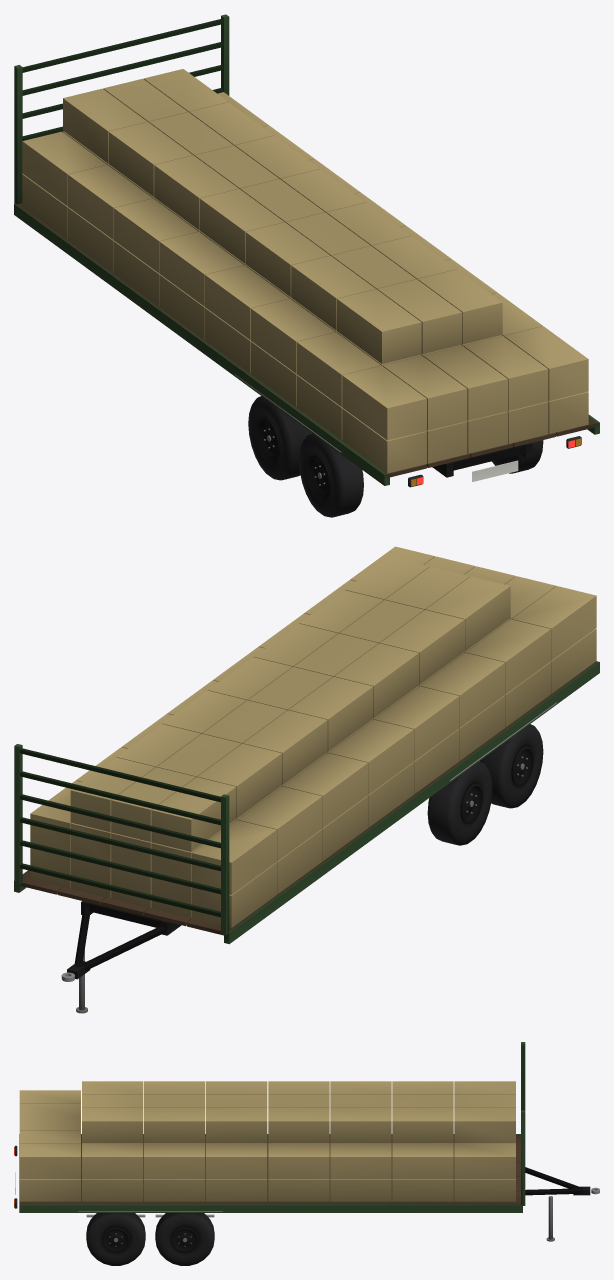
The model's file is hay_trailer_a.glb.
3 renders of one model, top to bottom at view 1: azimuth 30°, elevation 25°; view 2: azimuth 150°, elevation 25°; view 3: azimuth 270°, elevation 25°, orthographic. The views are drawn at different scales.
Parts seen in each view (by area): view 1: hay_trailer_a_body, wheel_rl, wheel_fl; view 2: hay_trailer_a_body, wheel_fl, wheel_rl; view 3: hay_trailer_a_body, wheel_fr, wheel_rr.
Part boxes in pixels (box(x1,y1,x2,y2)): hay_trailer_a_body: box(14, 14, 599, 487); wheel_rl: box(299, 433, 363, 517); wheel_fl: box(248, 396, 311, 480); hay_trailer_a_body: box(14, 546, 599, 1013); wheel_fl: box(427, 761, 492, 845); wheel_rl: box(480, 724, 543, 808); hay_trailer_a_body: box(14, 1042, 599, 1241); wheel_fr: box(155, 1213, 214, 1265); wheel_rr: box(86, 1213, 145, 1265).
Size of what is drawn, in the model's own units: 2.46 by 2.5 by 8.49.
